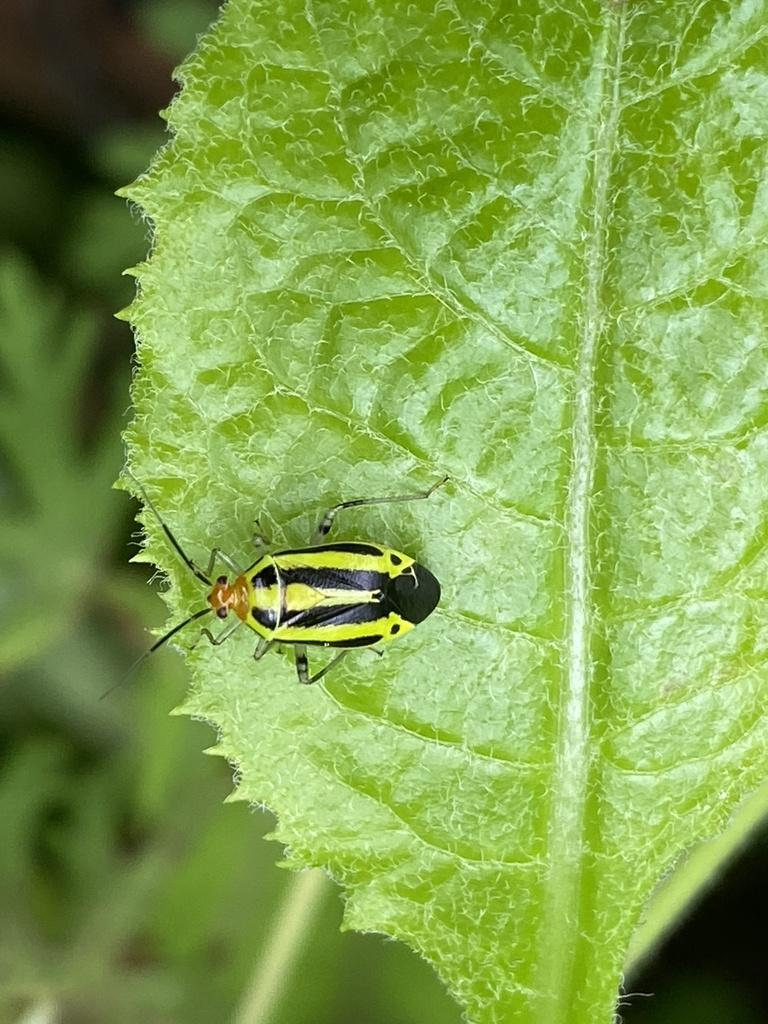plant_bugs: (80, 431, 490, 741)
